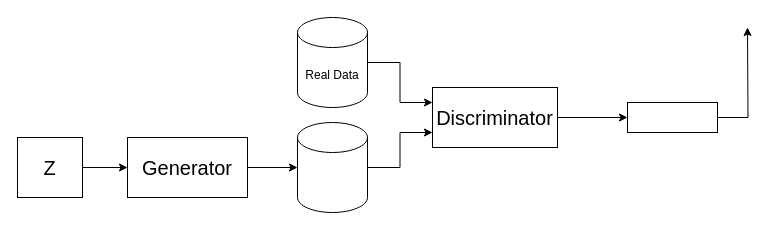
Some shapes in this 774 by 230 pixel diagram are drawn without their labels. The shapes that lost their labels are listed below. From the top down, each one's box as (x1, y1, x2, y2) in pixels, then its label:
(626, 102, 718, 132): Cost
(296, 122, 368, 212): Generated Data
